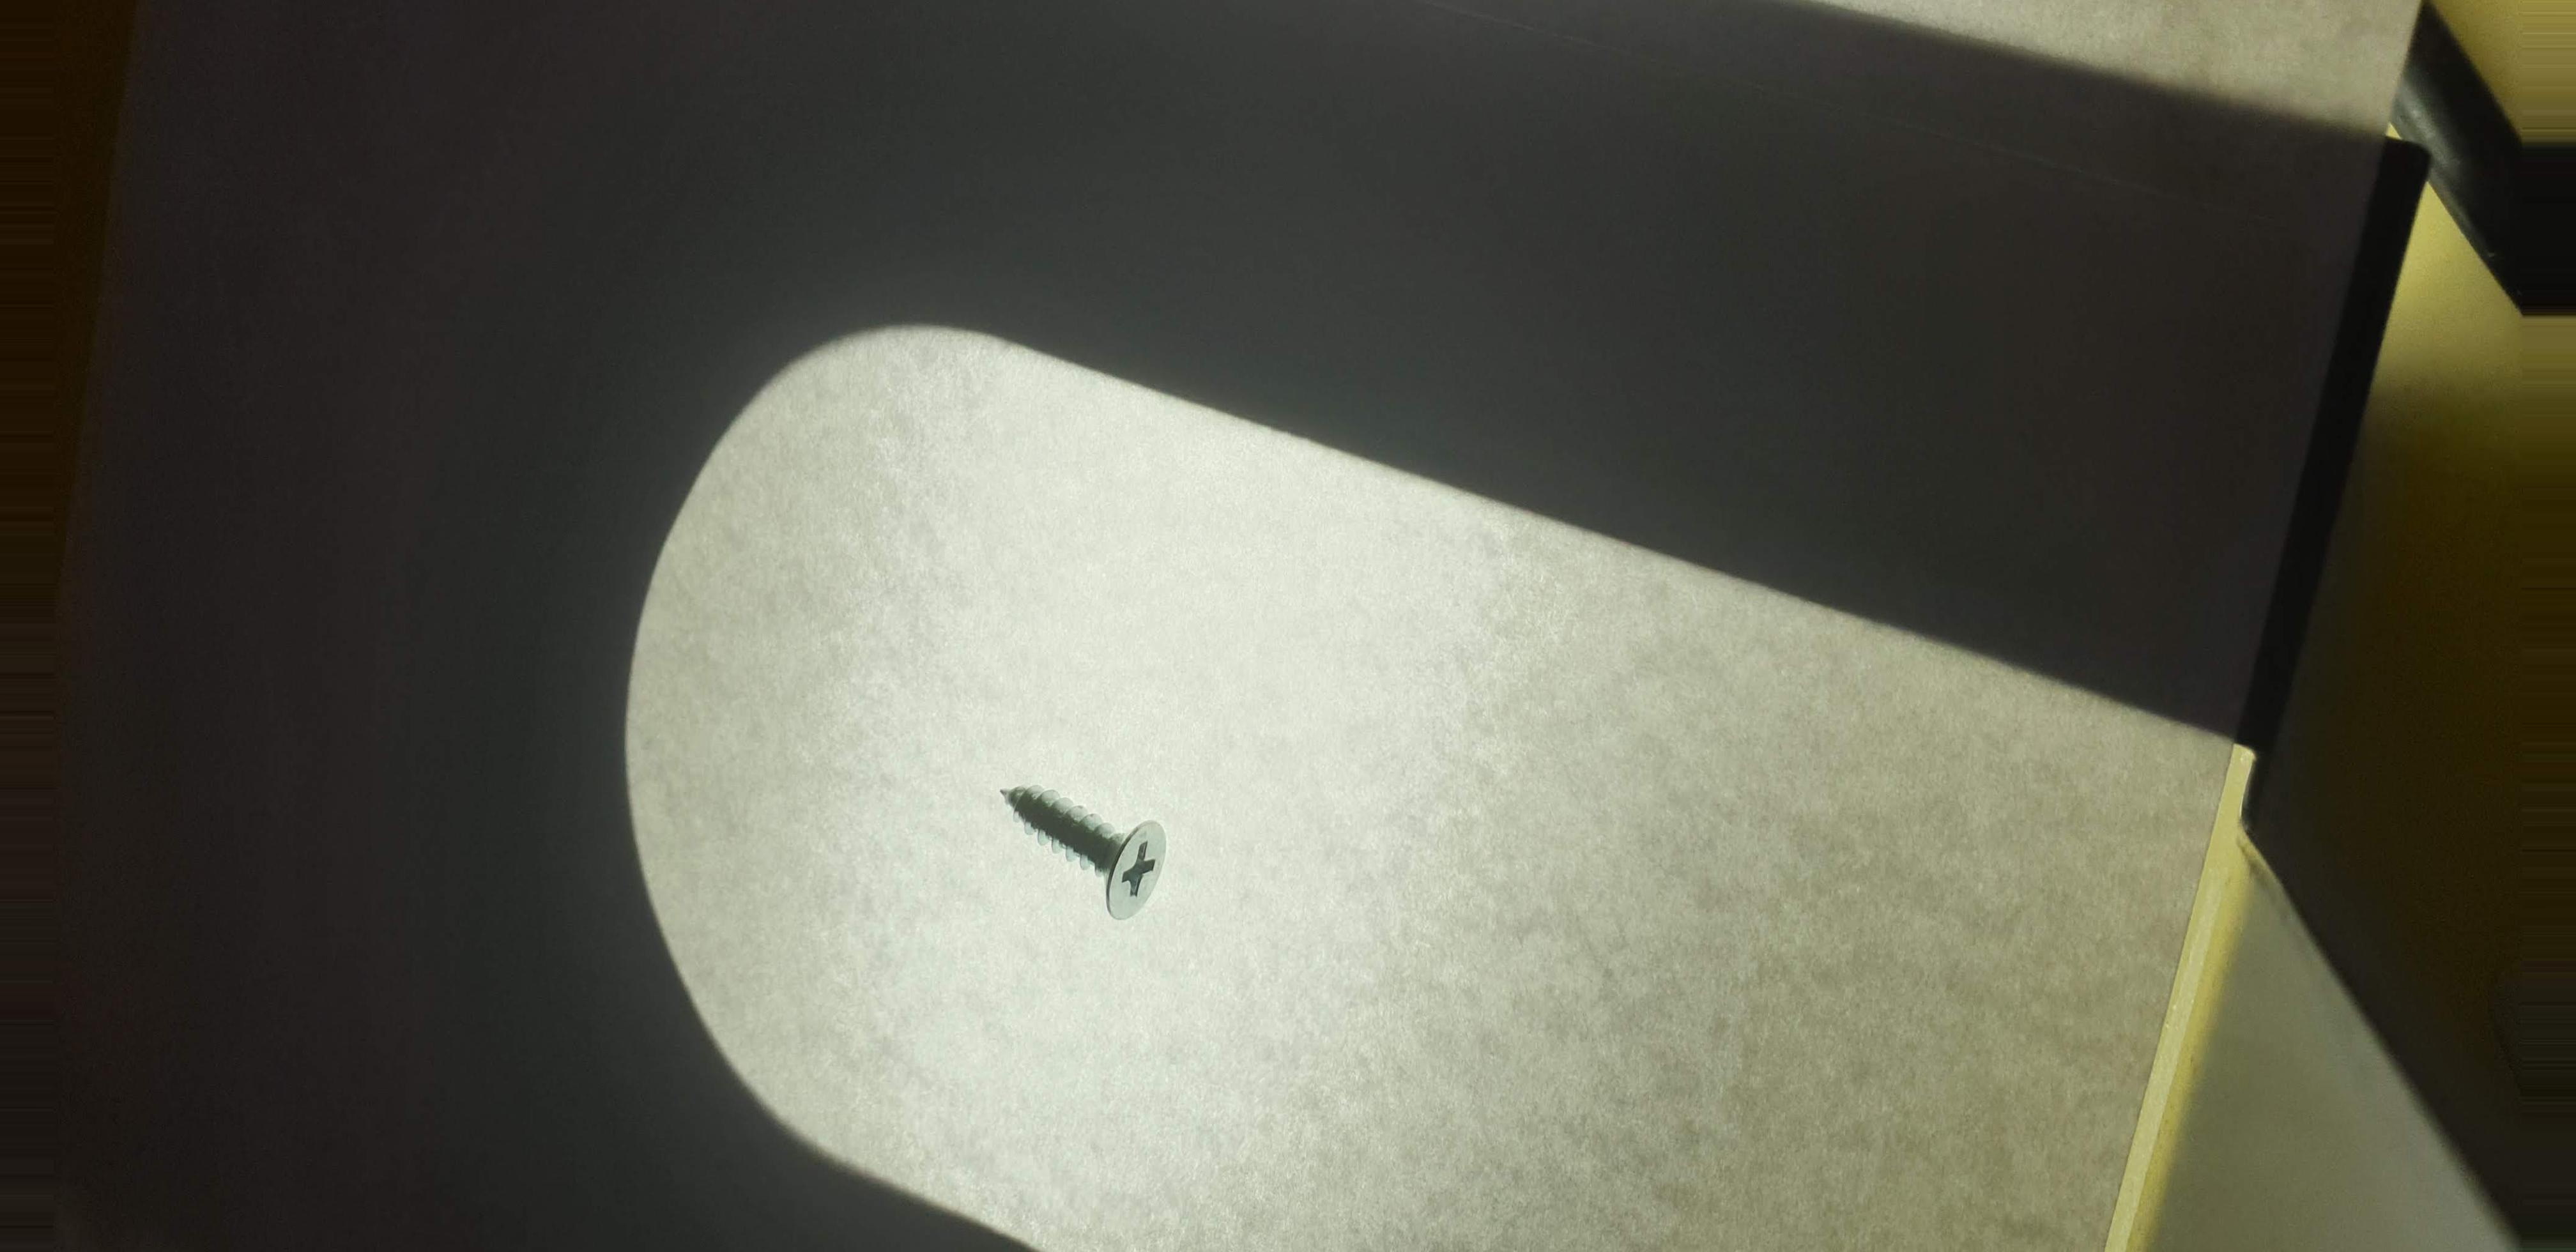S003: (976, 756, 1219, 940)
